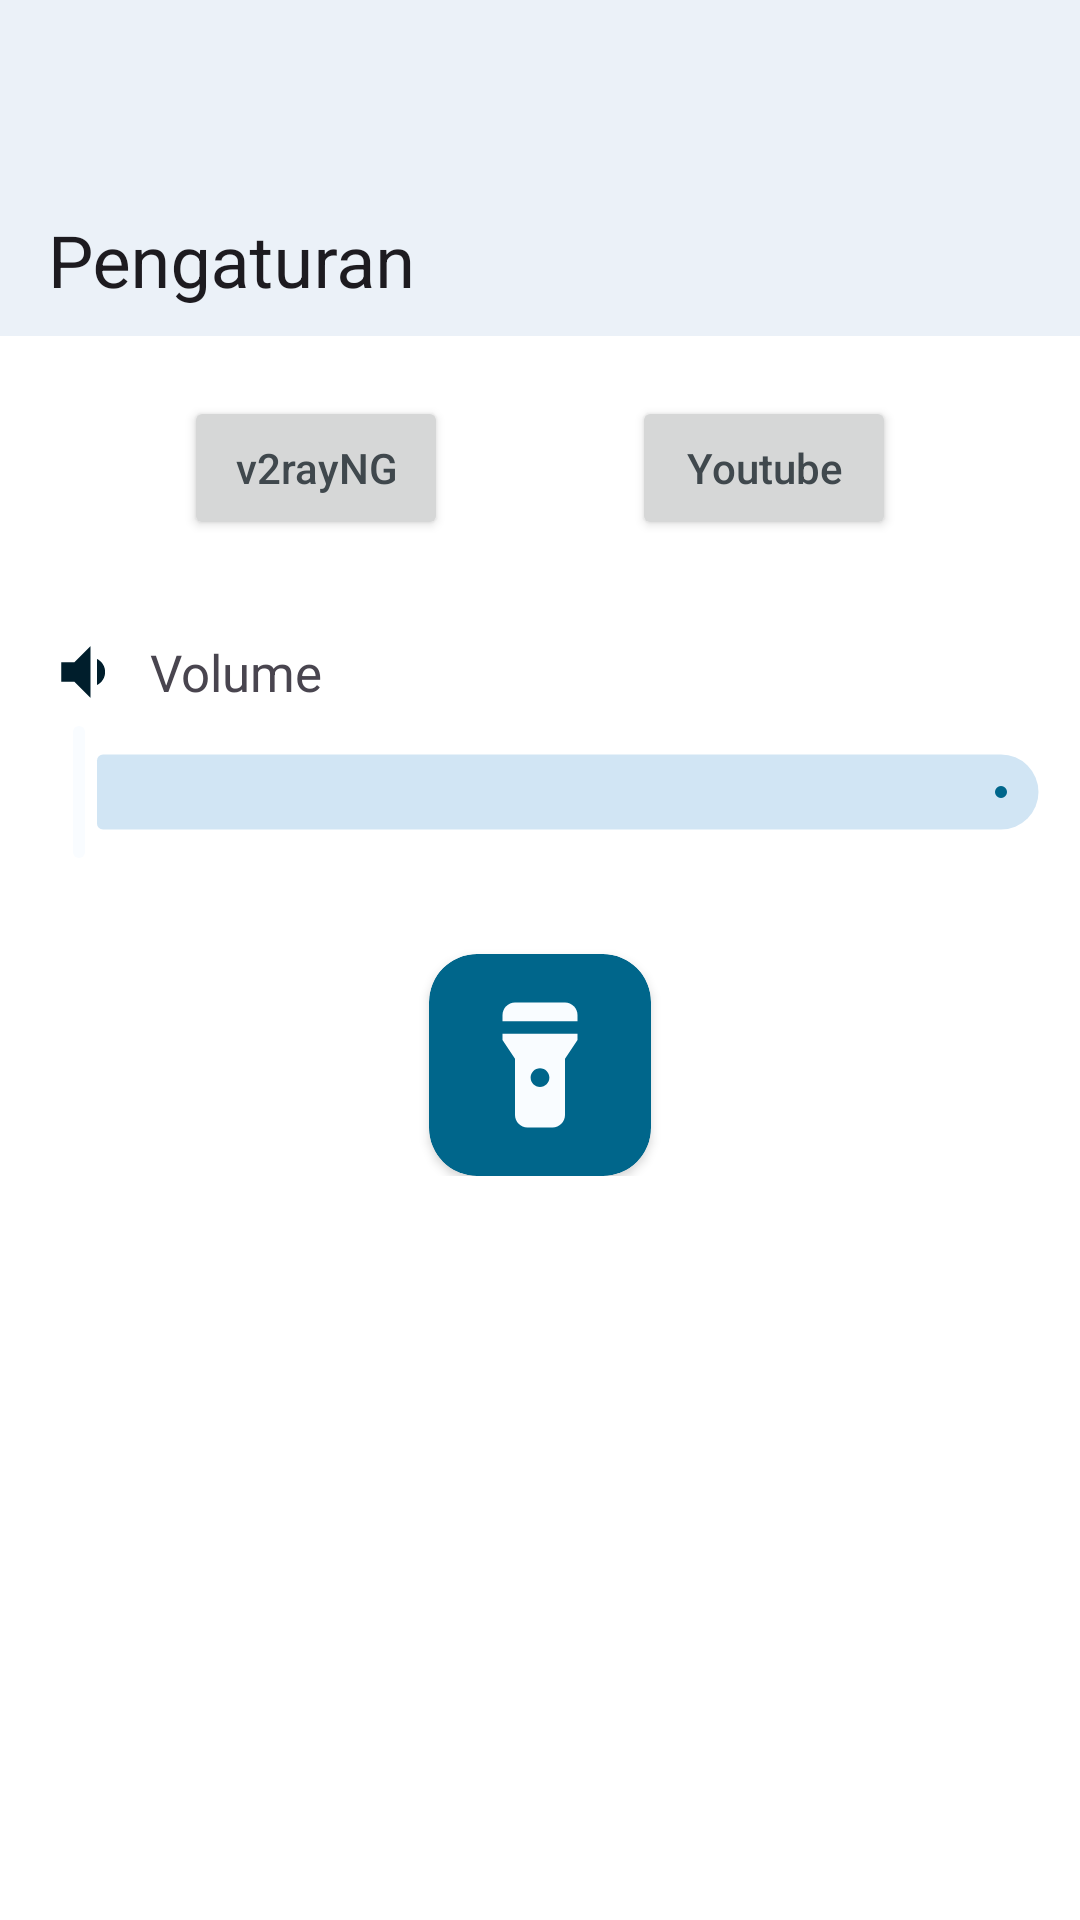

Screen size 1080px x 1920px. Icon name, then its box in pixels as rect(x1, y1, x2, y2):
flashlight on: rect(502, 1002, 578, 1128)
